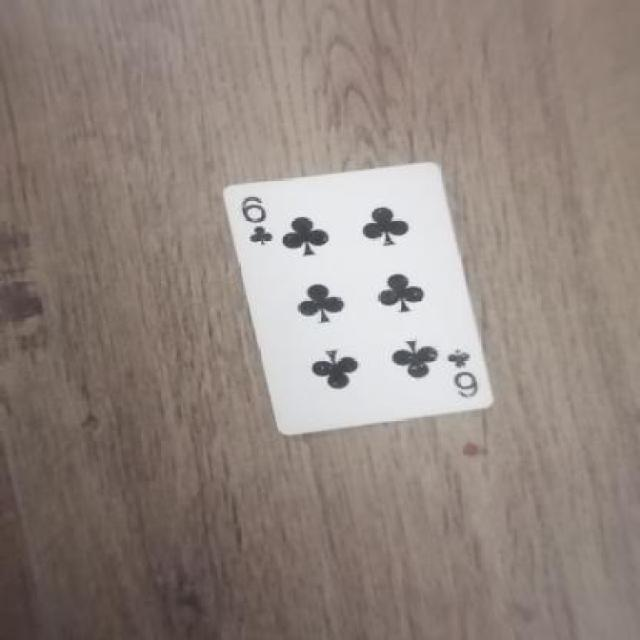6C: (438, 346, 493, 408), (237, 187, 285, 256)
